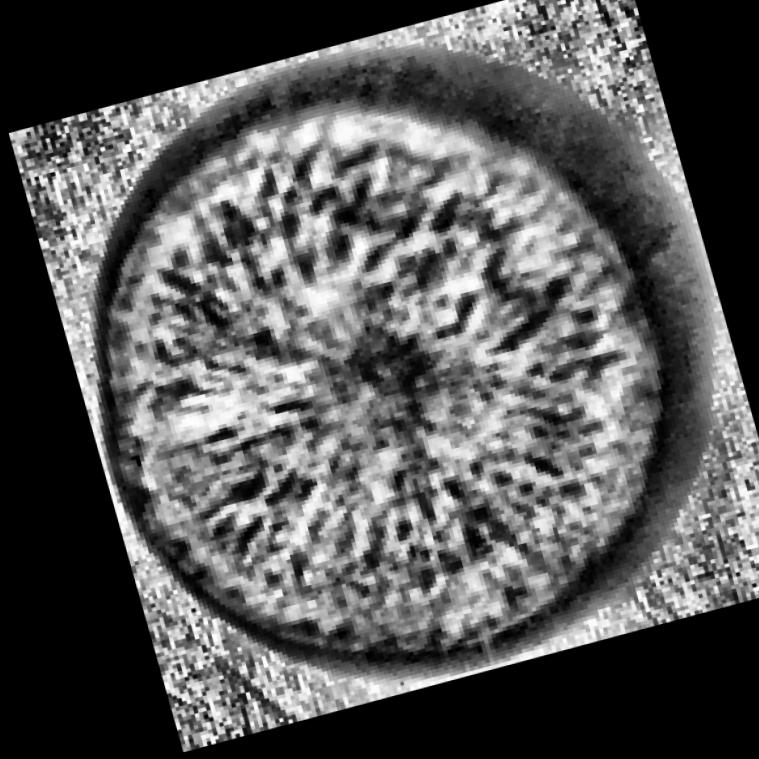qualityHazelnut: (1, 0, 759, 759)
